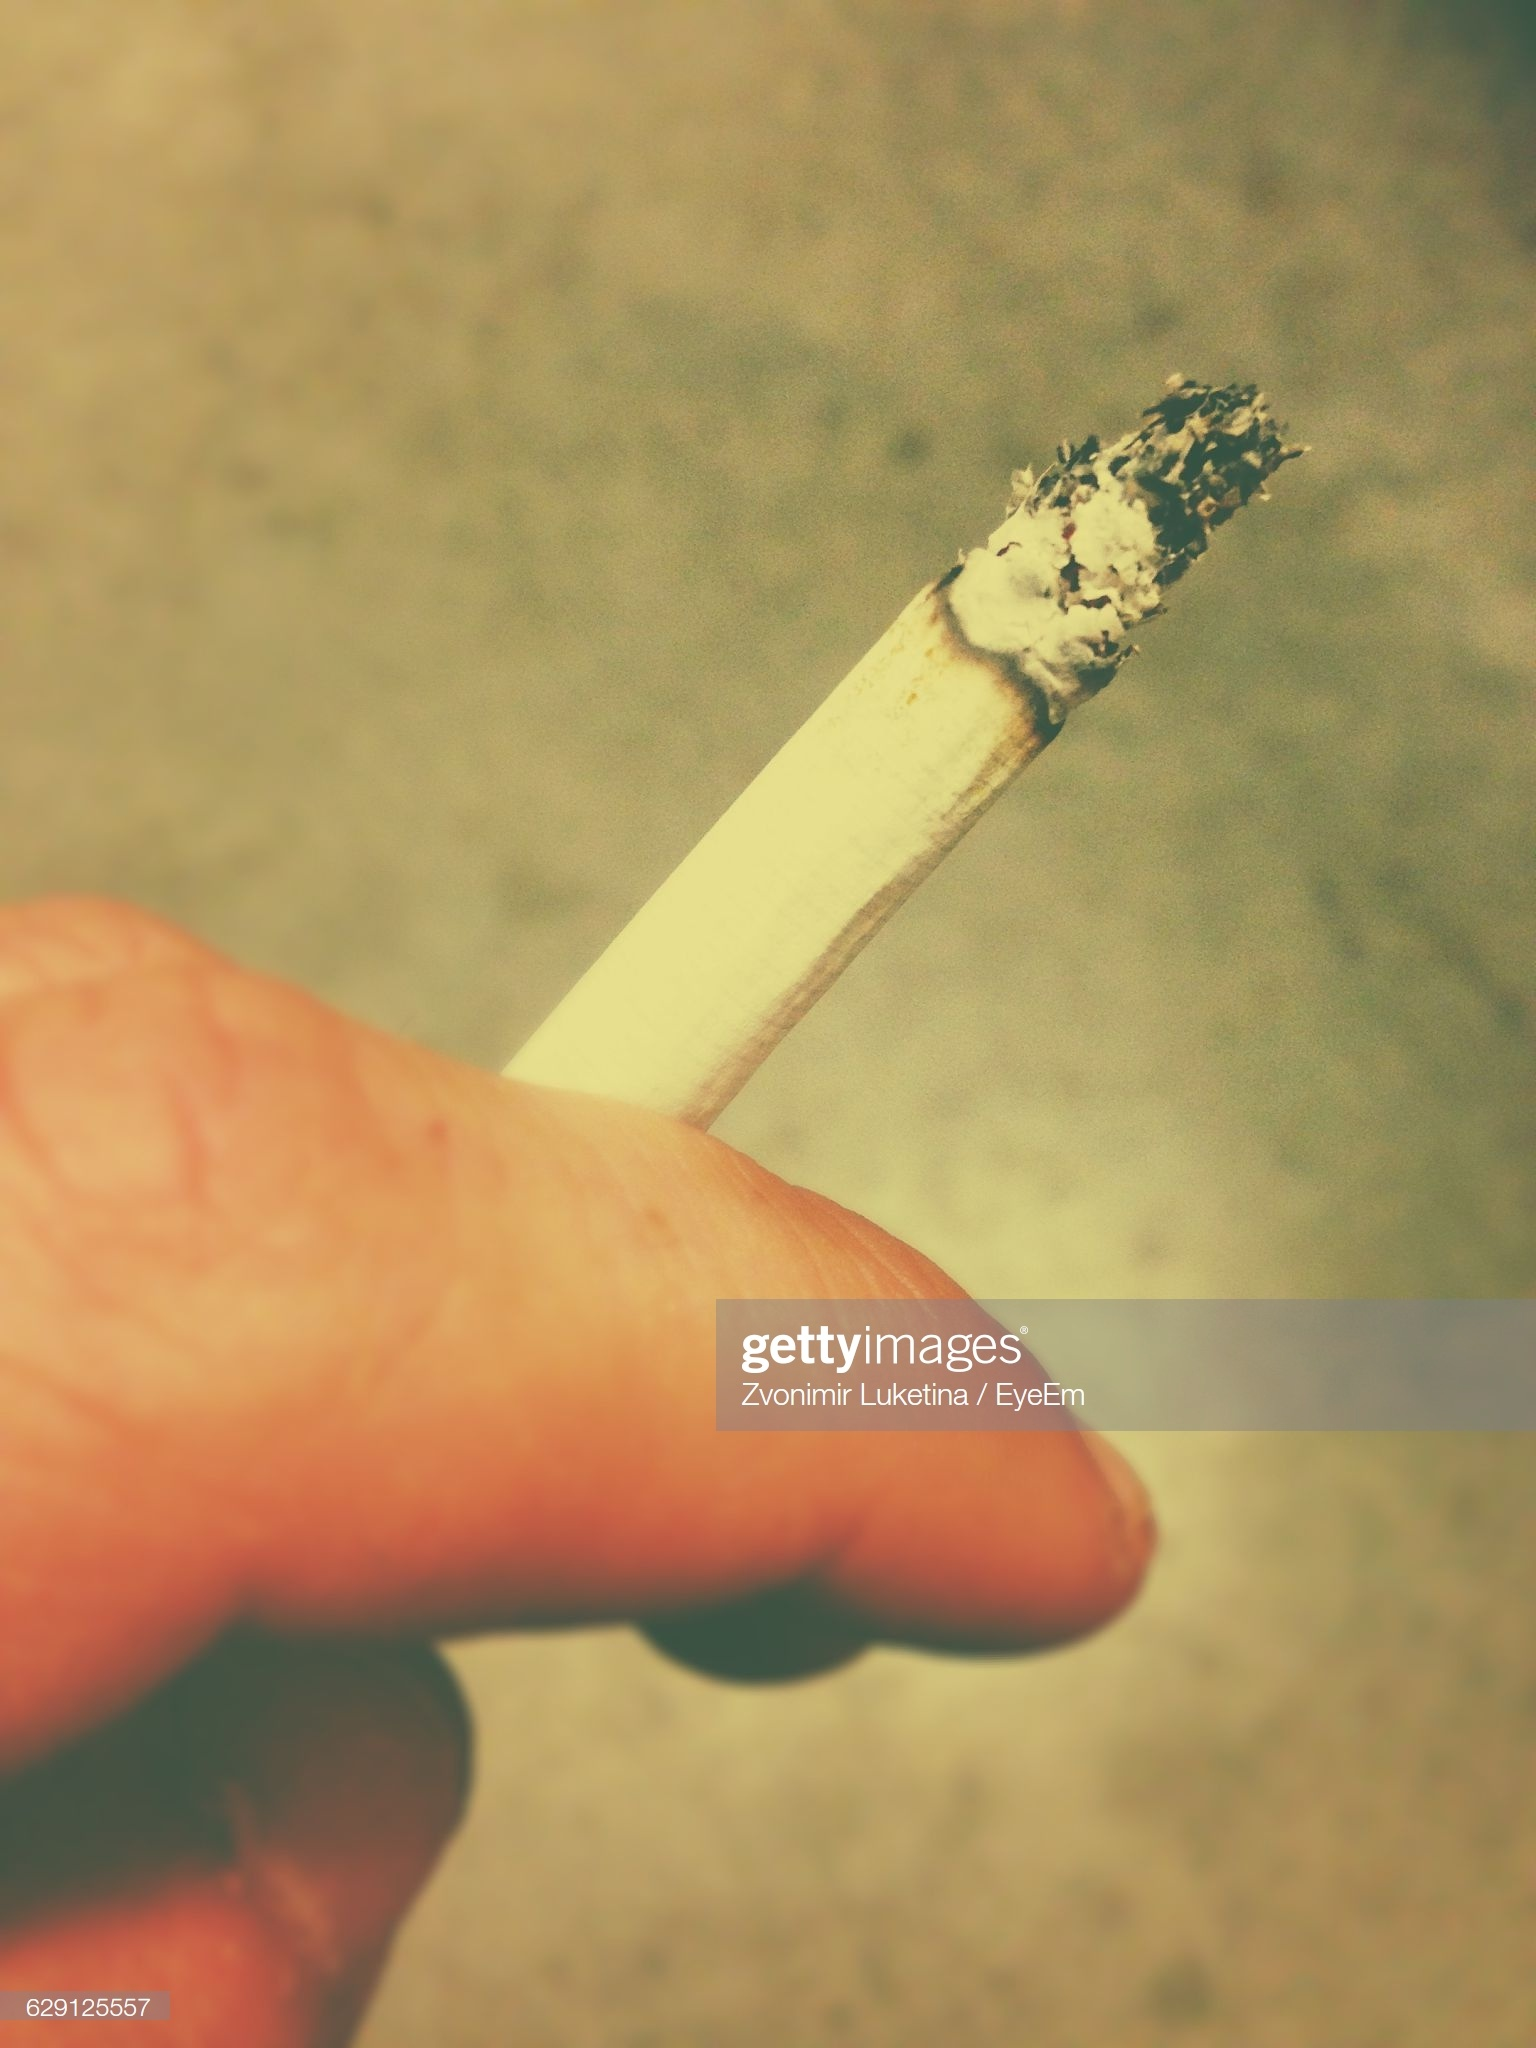sigaretta: (502, 402, 1270, 1164)
